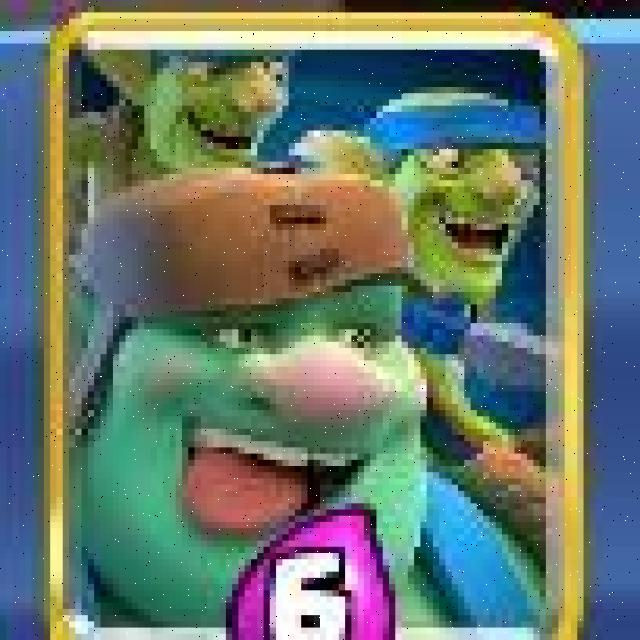Goblin_Giant: (49, 10, 583, 640)
